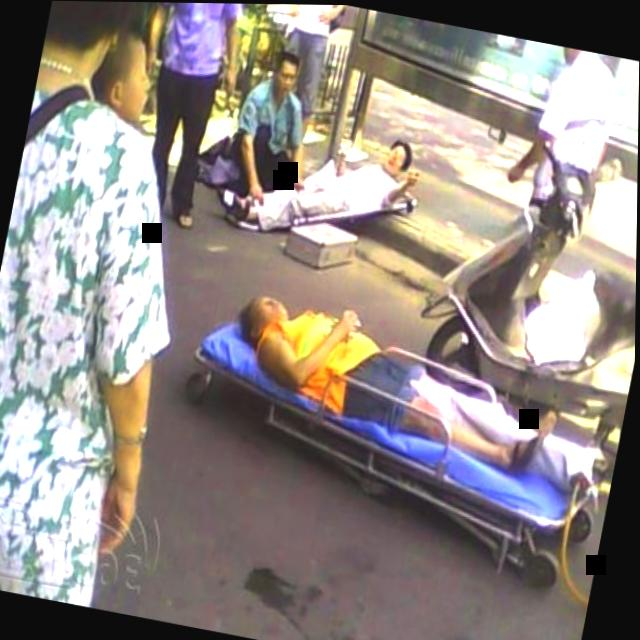Fall-Detected: (215, 91, 436, 258)
